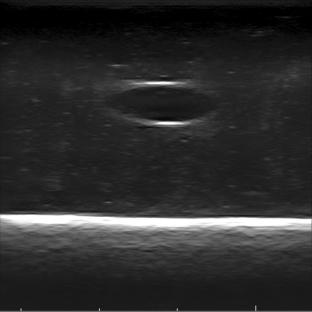vessel: (107, 81, 218, 128)
